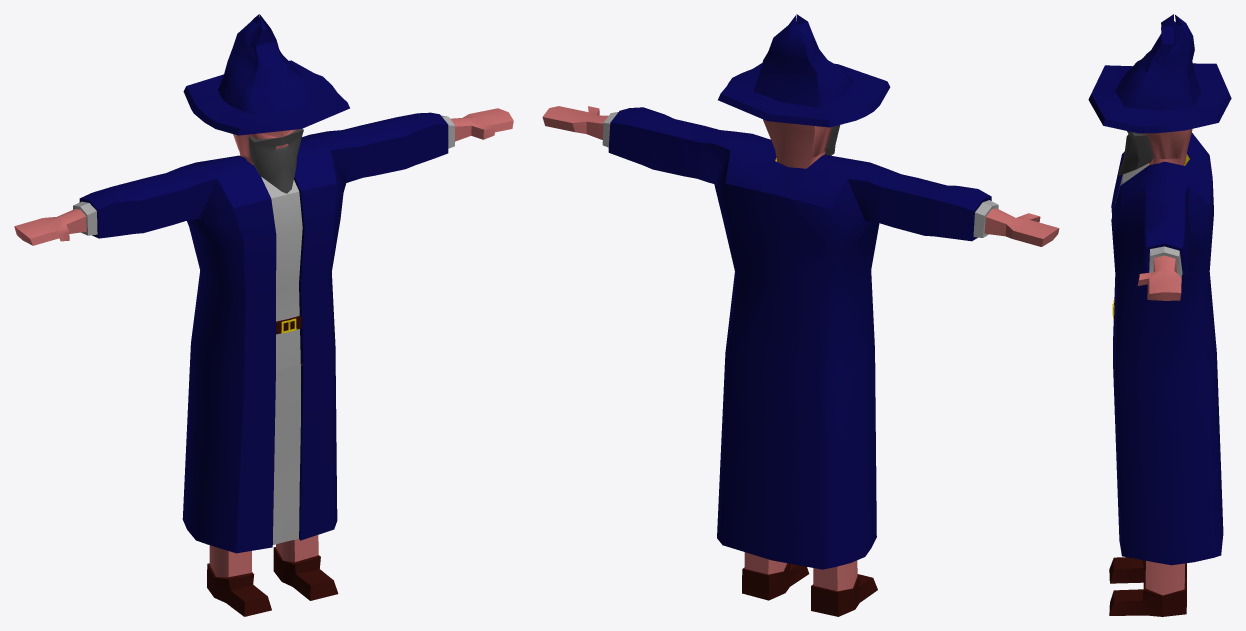
Rendered from GalentinBreboriFinal.fbx.
3 renders of one model, left to right at view 1: azimuth 30°, elevation 25°; view 2: azimuth 150°, elevation 25°; view 3: azimuth 270°, elevation 25°, orthographic. The views are drawn at different scales.
Visible parts, largest first — view 1: Penismaxxing; view 2: Penismaxxing; view 3: Penismaxxing.
Boxes of the visible parts, box(x1,y1,x2,y2) form: Penismaxxing: box(14, 14, 513, 616); Penismaxxing: box(542, 14, 1059, 616); Penismaxxing: box(1088, 14, 1231, 616).
Size of the model in its own units: 1.67 by 1.86 by 0.4179.
